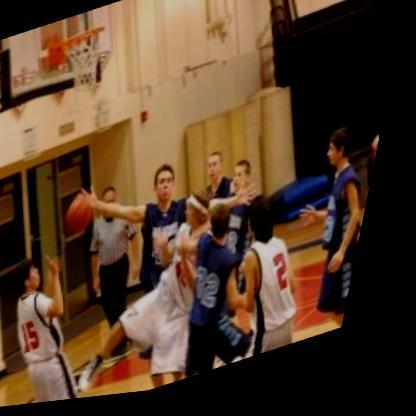basketball: (64, 189, 113, 246)
